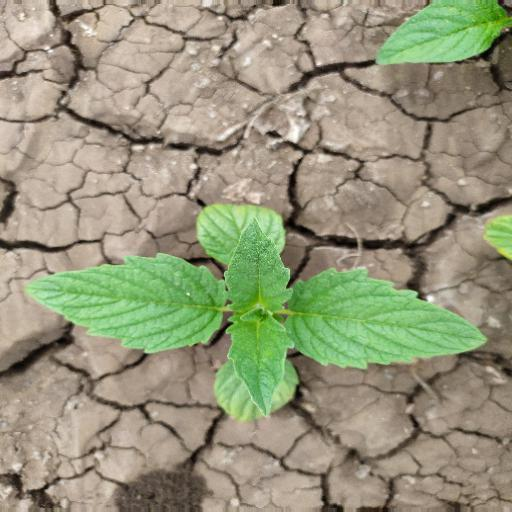crop: (16, 167, 482, 420)
